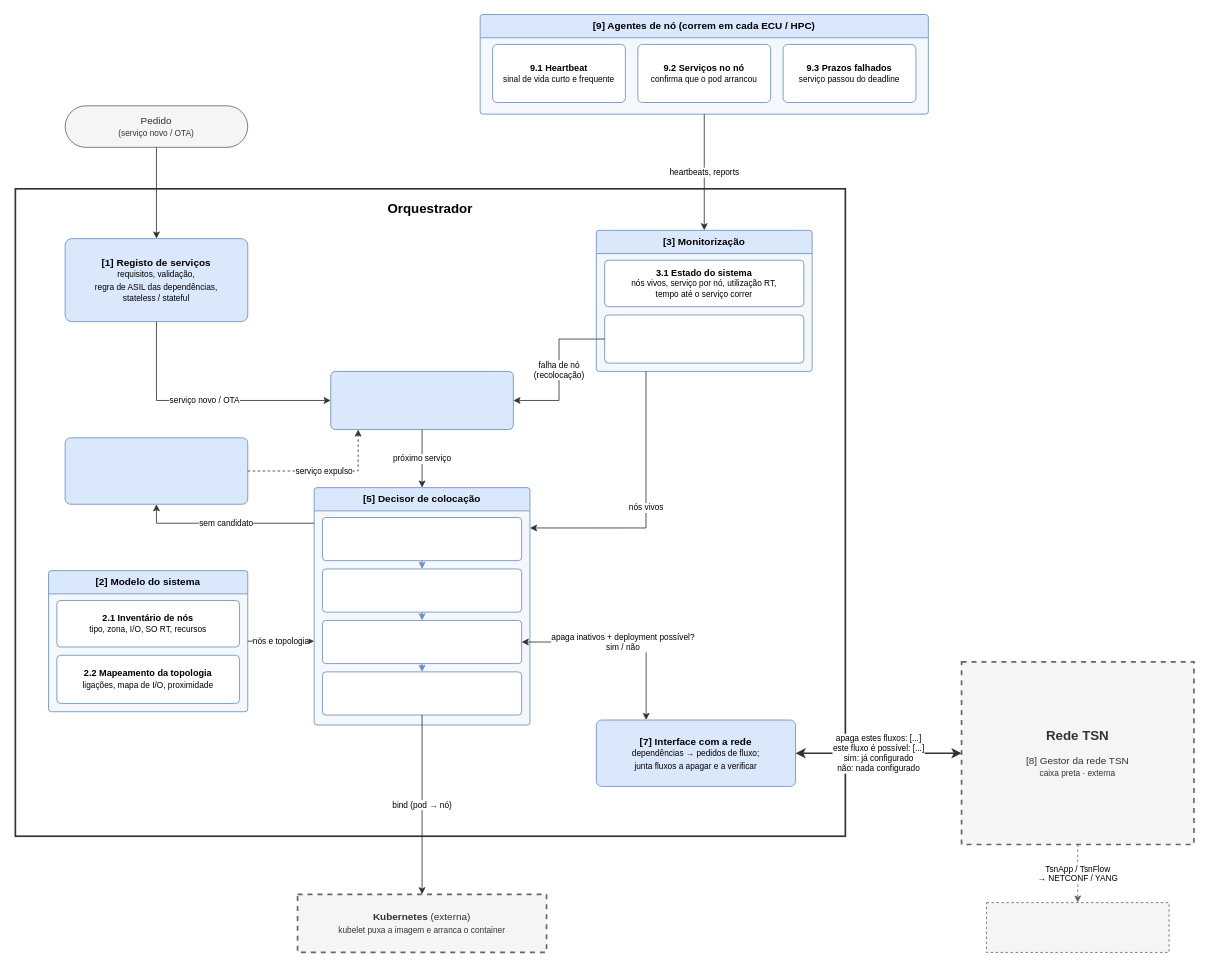
Image size: 1208x968. Some labels were removed from this diagram. Each missing label, with the centre of its shape:
3.2 Deteção de falhas heartbeats param → serviços para recolocação: (704,338)
5.1 Filtragem restrições duras: (422,539)
5.2 Pontuação restrições flexíveis (proximidade): (422,590)
5.3 Teste de admissão nó (escalonabilidade), depois rede: (422,642)
5.4 Ligação Bind: pod → nó (não fala com a rede): (422,693)
[4] Fila de espera criticidade, depois tempo de espera: (421,400)
[6] Gestor de expulsão escolhe a vítima e liberta o lugar: (156,470)
Switches TSN: (1077,927)
